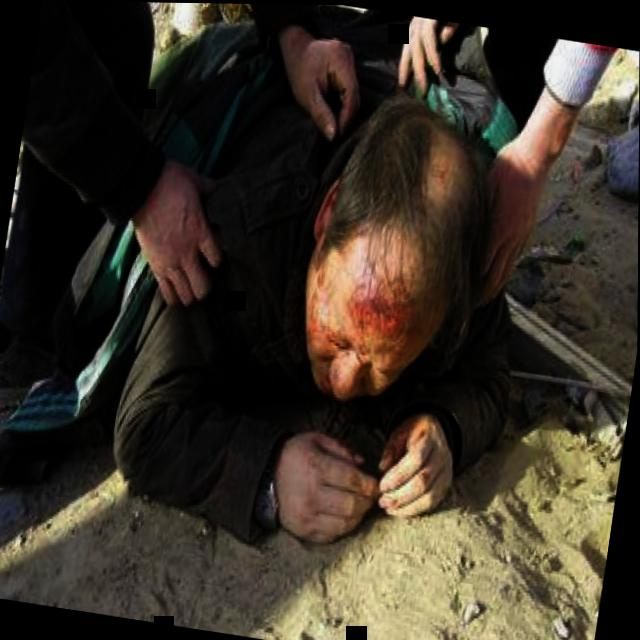Fall-Detected: (9, 0, 568, 614)
